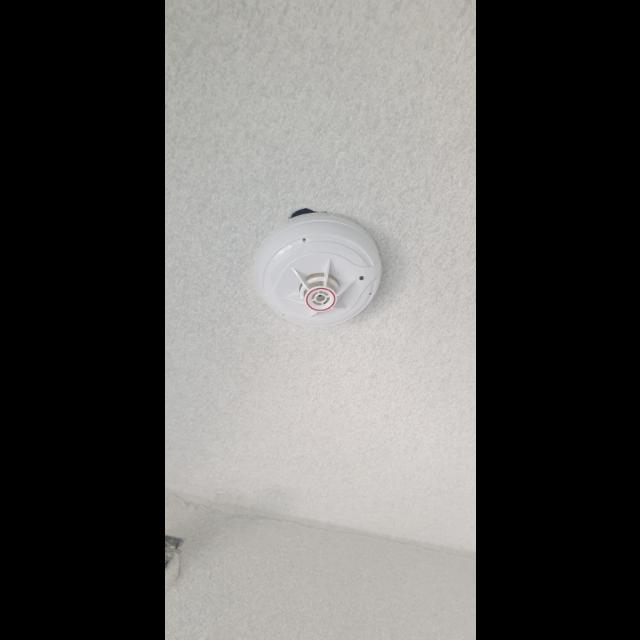Smoke-Detector: (253, 214, 381, 334)
